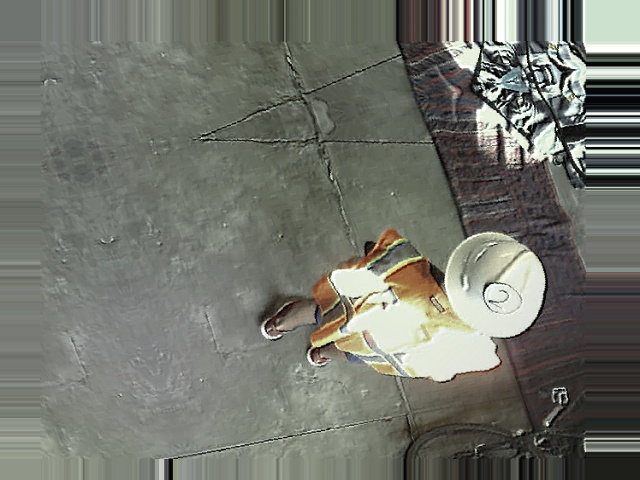two: (479, 279, 526, 317)
